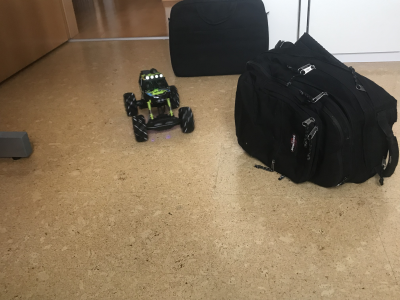remote control car: (120, 67, 196, 144)
